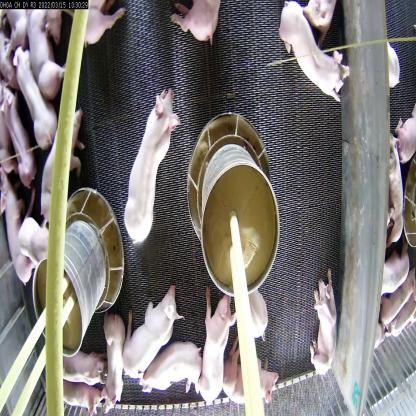Pig: (115, 78, 187, 258), (282, 0, 351, 110), (114, 286, 187, 376), (296, 260, 347, 372), (46, 106, 92, 225), (3, 202, 65, 286), (194, 284, 236, 406), (144, 336, 208, 411), (216, 355, 294, 415), (44, 333, 97, 385), (102, 320, 128, 409), (172, 0, 219, 42), (57, 385, 110, 415), (238, 284, 262, 327)
